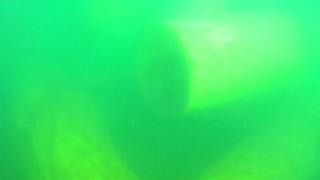pipe: (131, 12, 320, 117), (13, 71, 141, 179), (194, 119, 320, 179)
